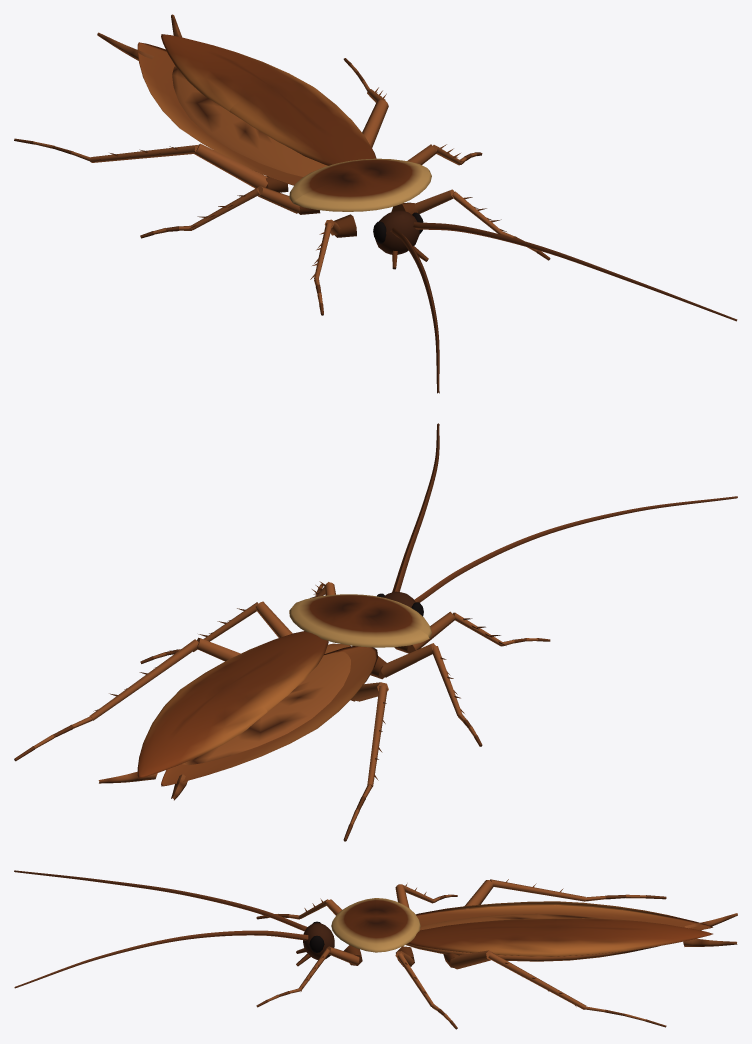
Rendered from roach.glb.
The picture shows the model from 3 angles, top to bottom: view 1: azimuth 30°, elevation 25°; view 2: azimuth 150°, elevation 25°; view 3: azimuth 270°, elevation 25°; orthographic projection. The views are drawn at different scales.
Visible parts, largest first — view 1: shell, legs_antennae; view 2: shell, legs_antennae; view 3: shell, legs_antennae.
Boxes of the visible parts, box(x1,y1,x2,y2) form: shell: box(137, 34, 431, 254); legs_antennae: box(14, 14, 737, 393); shell: box(137, 591, 431, 786); legs_antennae: box(14, 423, 737, 841); shell: box(303, 898, 712, 959); legs_antennae: box(14, 870, 737, 1029).
Size of the model in its own units: 33.18 by 5.77 by 76.1.
